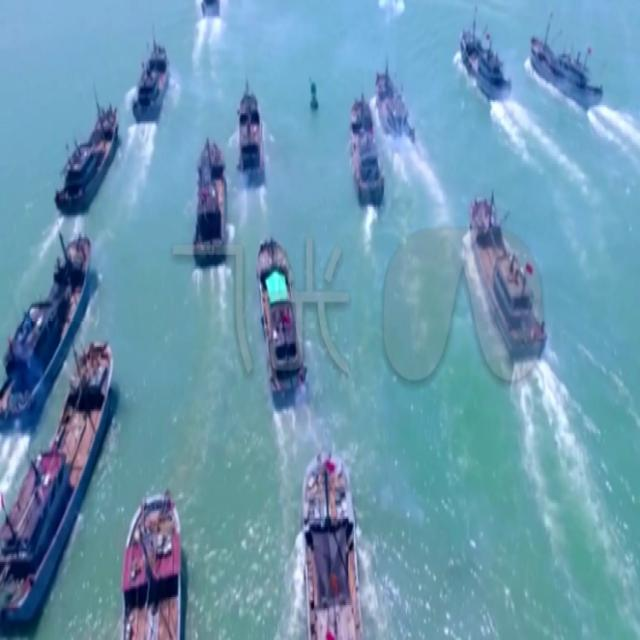fishing boat: (0, 334, 111, 634), (0, 231, 91, 431), (469, 196, 546, 363), (300, 444, 362, 640), (117, 482, 188, 640), (256, 228, 307, 392), (55, 102, 118, 216), (534, 12, 602, 104), (191, 134, 229, 265), (463, 3, 513, 100), (348, 89, 383, 204), (132, 44, 171, 121), (379, 59, 416, 138), (235, 85, 265, 171), (196, 0, 226, 24)
